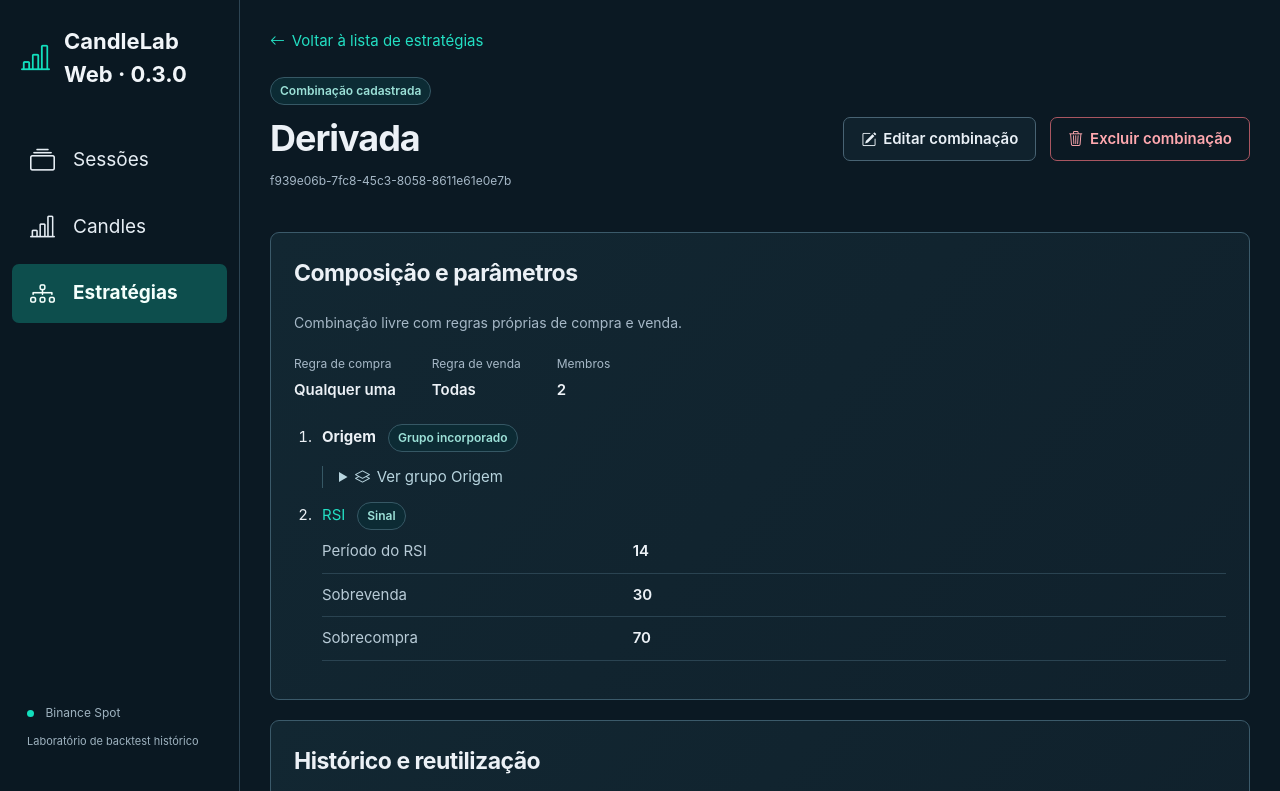
Test: mostra grupos e parâmetros preservados e abre a combinação para editar
Check: the heading "Derivada" is shown, box [270,116,420,160]
Check: the element "Composição e parâmetros" shows "Qualquer uma", box [294,380,396,399]
What coordinates should you click on to do the following:
click the heading "Ver grupo Origem"
I would click on:
 (429, 476)
Its box is [355,467,503,486].
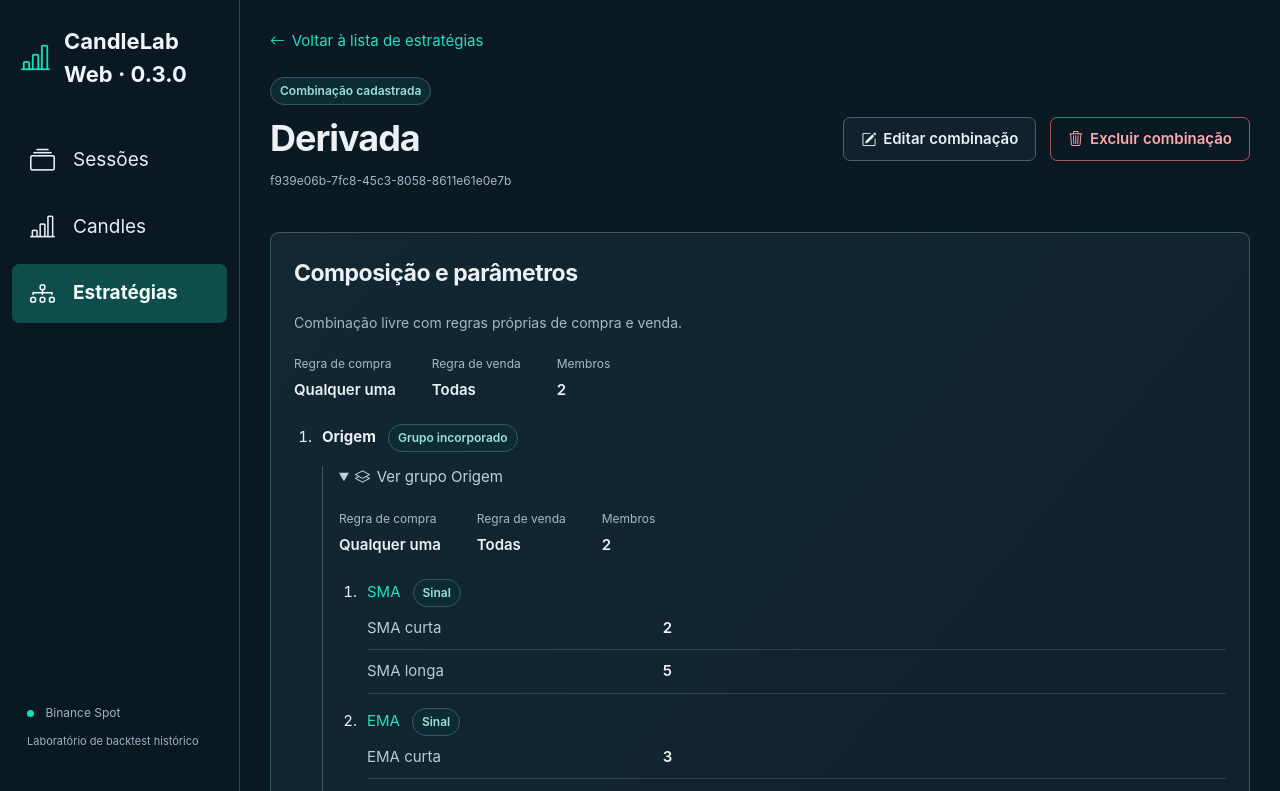
Check: the link "SMA" is shown, box [367,582,400,601]
Check: the text "SMA curta" is shown, box [367,618,442,637]
What coordinates should you click on to do the following:
click the link "Editar combinação"
I would click on:
 (940, 139)
Its box is [843,117,1036,161].
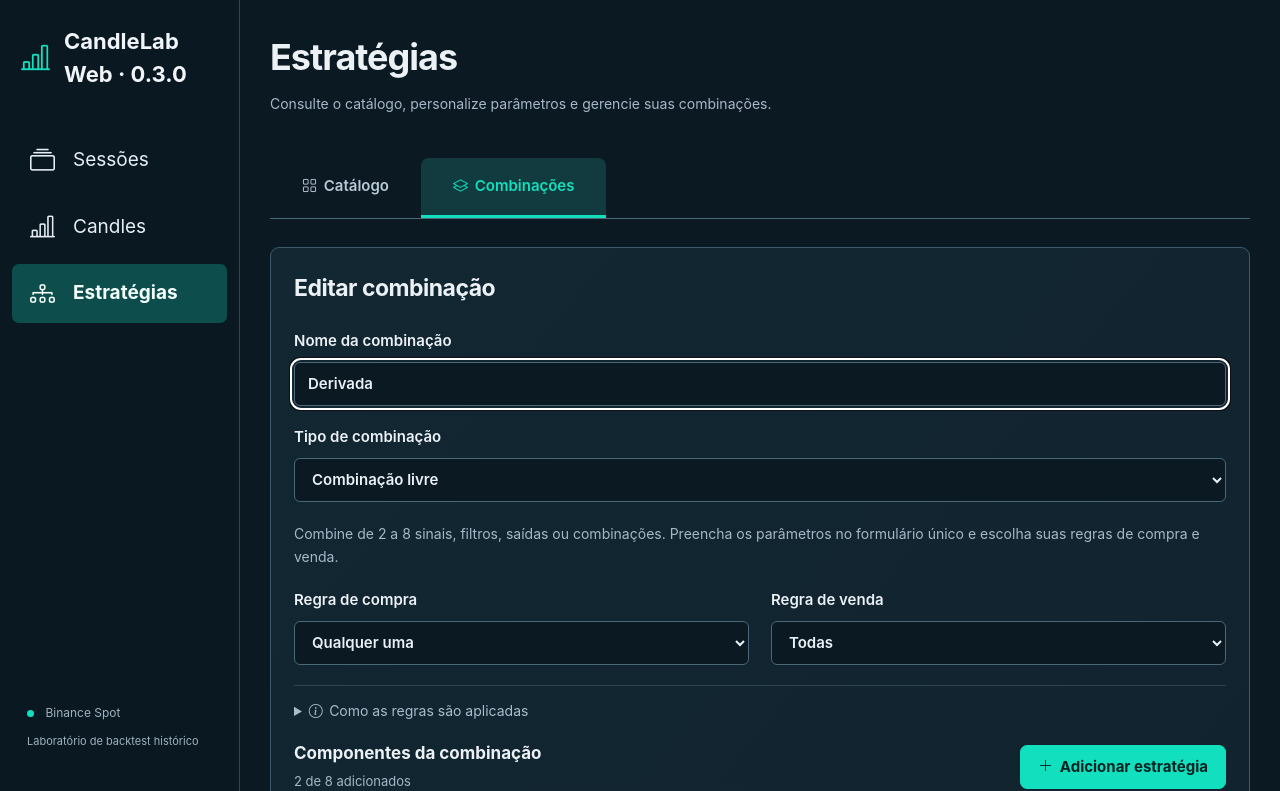
Check: the heading "Editar combinação" is shown, box [294,274,495,302]
Check: the field labelled "Nome da combinação" holds "Derivada", box [294,362,1226,406]
Check: the dropdown labelled "Regra de venda" shows "Todas", box [771,621,1226,665]
